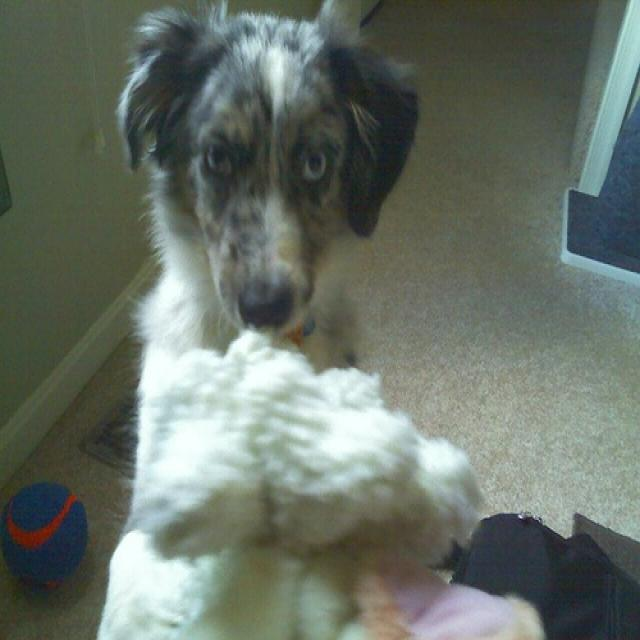dog: (102, 4, 415, 386)
